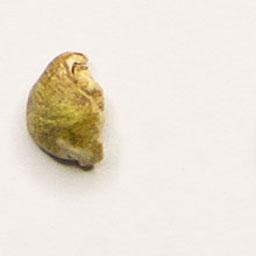defect: (23, 46, 112, 176)
